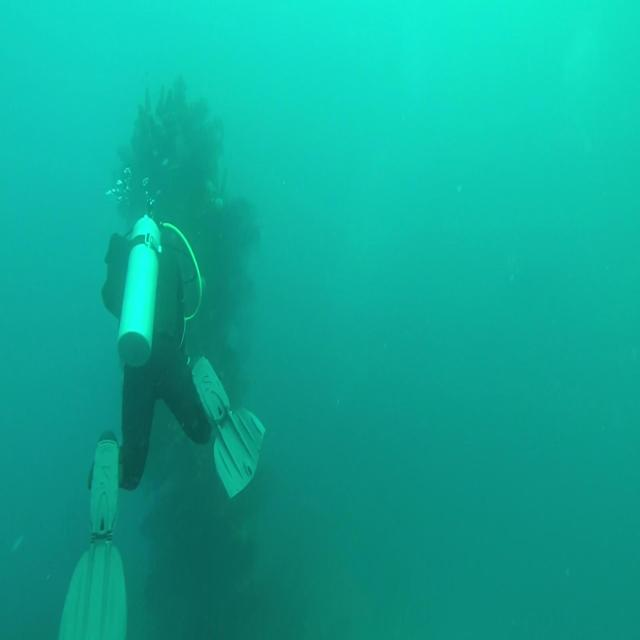human: (89, 211, 265, 503)
